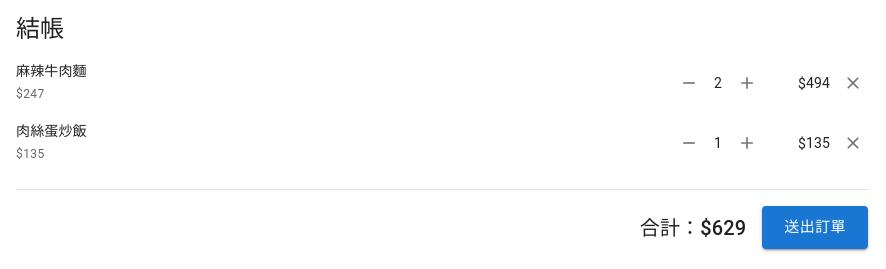
Test: CheckoutPage › edge cases › removes only the targeted item when × is clicked
The image size is (886, 269).
Click the button named "remove 麻辣牛肉麵 from cart" at x=853, y=83, box [838, 68, 868, 98]
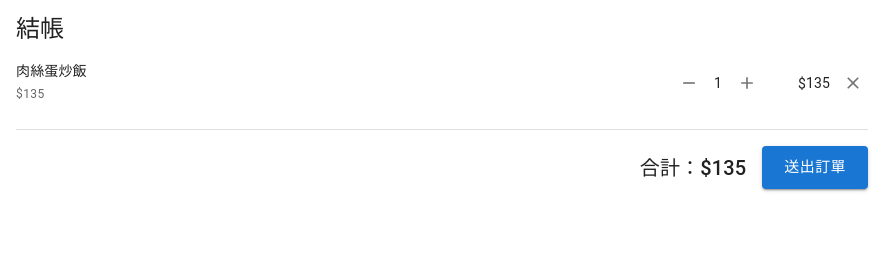
Expected: the text "肉絲蛋炒飯" is shown, [16, 63, 87, 79]
Expected: the text "麻辣牛肉麵" is gone
